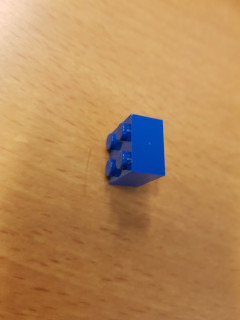2x2 blue: (104, 112, 168, 190)
